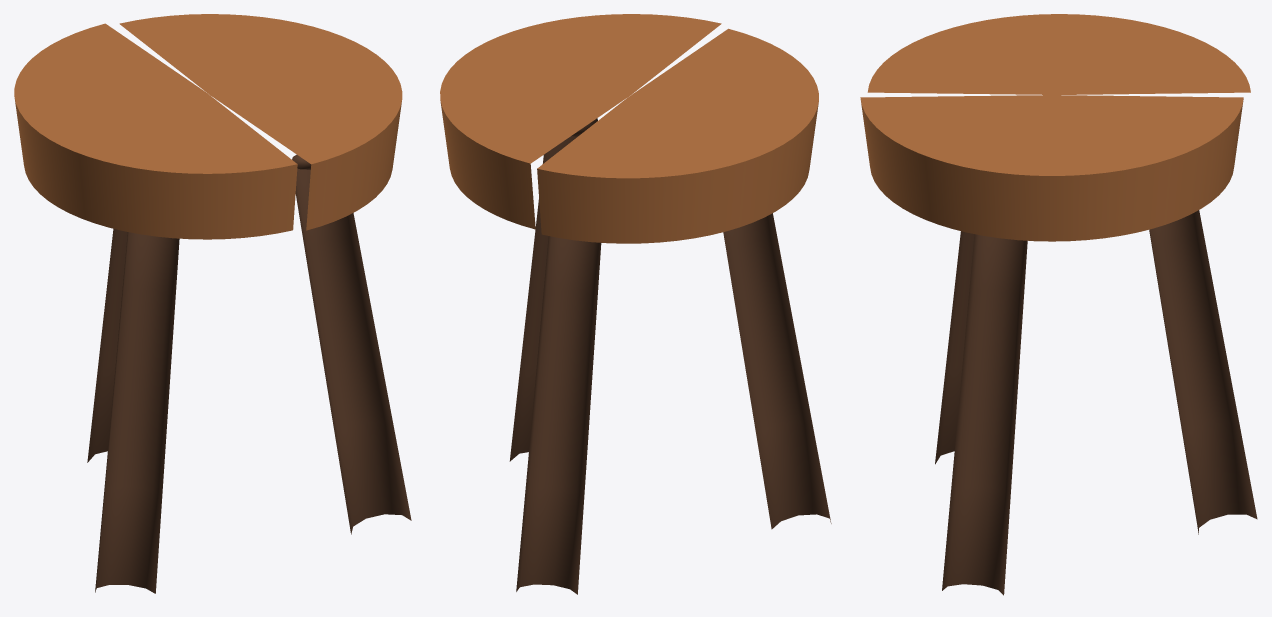
Rendered from GROVE_STOOL.glb.
The picture shows the model from 3 angles, left to right: view 1: azimuth 30°, elevation 25°; view 2: azimuth 150°, elevation 25°; view 3: azimuth 270°, elevation 25°; orthographic projection.
Visible parts, largest first — view 1: seat, legs; view 2: seat, legs; view 3: seat, legs.
Part boxes in pixels (bbox=[...]): seat: bbox=[14, 14, 402, 239]; legs: bbox=[87, 154, 411, 593]; seat: bbox=[440, 14, 818, 243]; legs: bbox=[509, 118, 831, 594]; seat: bbox=[860, 14, 1250, 241]; legs: bbox=[935, 210, 1257, 595].
Bounding box in the file's own units: 1.6 × 2.02 × 1.66.
